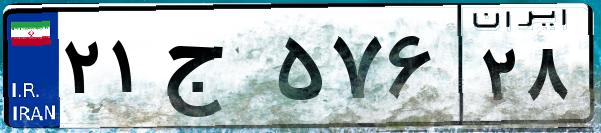1: (110, 28, 158, 98)
2: (57, 26, 110, 100), (475, 38, 525, 113)
5: (270, 28, 330, 110)
6: (385, 28, 445, 110)
7: (330, 28, 385, 110)
8: (525, 38, 570, 115)
ج: (158, 20, 270, 120)
